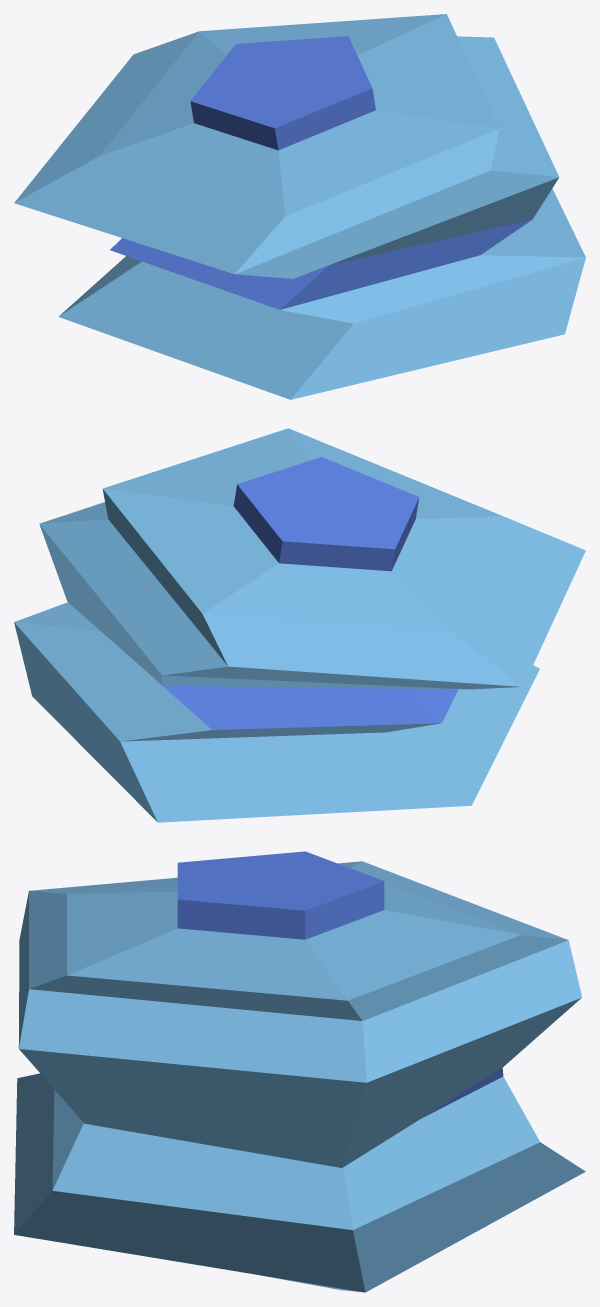
The model's file is Şişe 3.fbx.
3 renders of one model, top to bottom at view 1: azimuth 30°, elevation 25°; view 2: azimuth 150°, elevation 25°; view 3: azimuth 270°, elevation 25°, orthographic. The views are drawn at different scales.
Visible parts, largest first — view 1: Circle.002; view 2: Circle.002; view 3: Circle.002.
Part boxes in pixels (left/top/right/bottom): Circle.002: left=14, top=14, right=585, bottom=399; Circle.002: left=14, top=428, right=585, bottom=822; Circle.002: left=14, top=851, right=585, bottom=1292.
Bounding box in the file's own units: 67.7 × 33.04 × 55.57.
